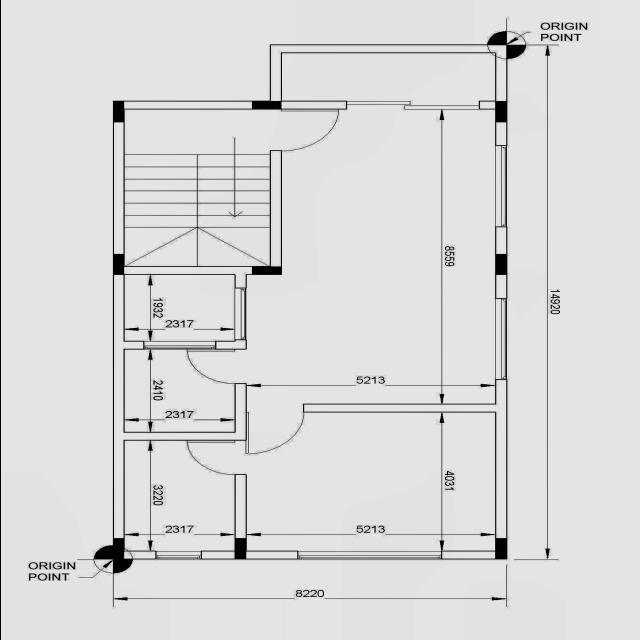Column: (233, 538, 246, 560), (494, 538, 506, 560), (112, 100, 124, 122), (494, 100, 506, 122), (112, 254, 124, 275), (494, 254, 506, 275), (112, 538, 124, 558), (250, 101, 280, 109), (251, 266, 281, 274)
Door: (246, 404, 304, 454), (268, 110, 338, 150), (186, 349, 246, 384), (186, 440, 246, 474)
Sliding Door: (346, 102, 478, 110)
Staircase: (124, 110, 268, 266)
Window: (296, 550, 441, 560), (494, 145, 506, 227), (494, 298, 506, 379), (233, 288, 246, 340), (143, 341, 215, 349), (154, 551, 200, 559)
